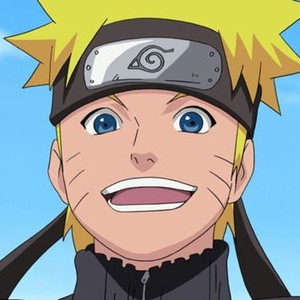naruto: (46, 15, 257, 263)
